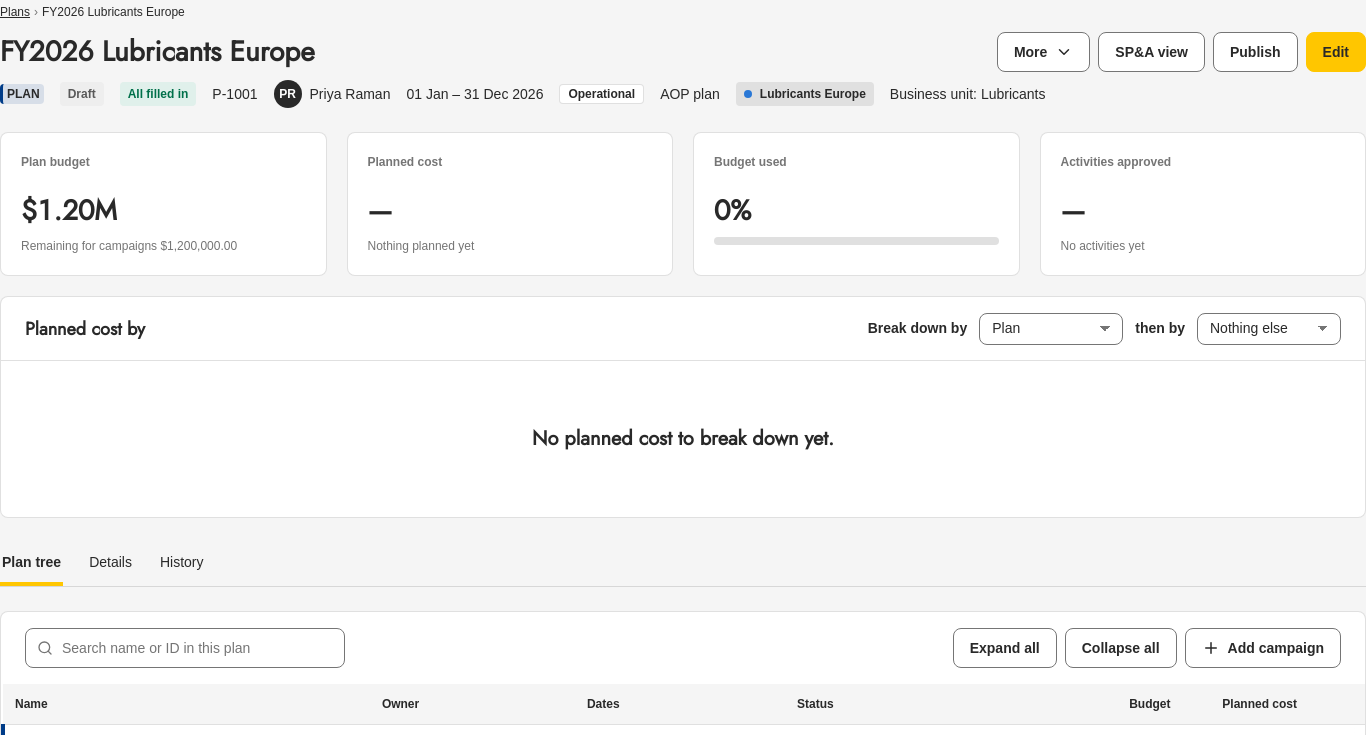
Test: PlanPage actions and history (US5, US6, FR-026 – FR-031) › goes to the Plans list after a delete, with Undo (US6#4, FR-030)
The image size is (1366, 735).
Click the button "More" at (1044, 52), box [997,32,1090,72]
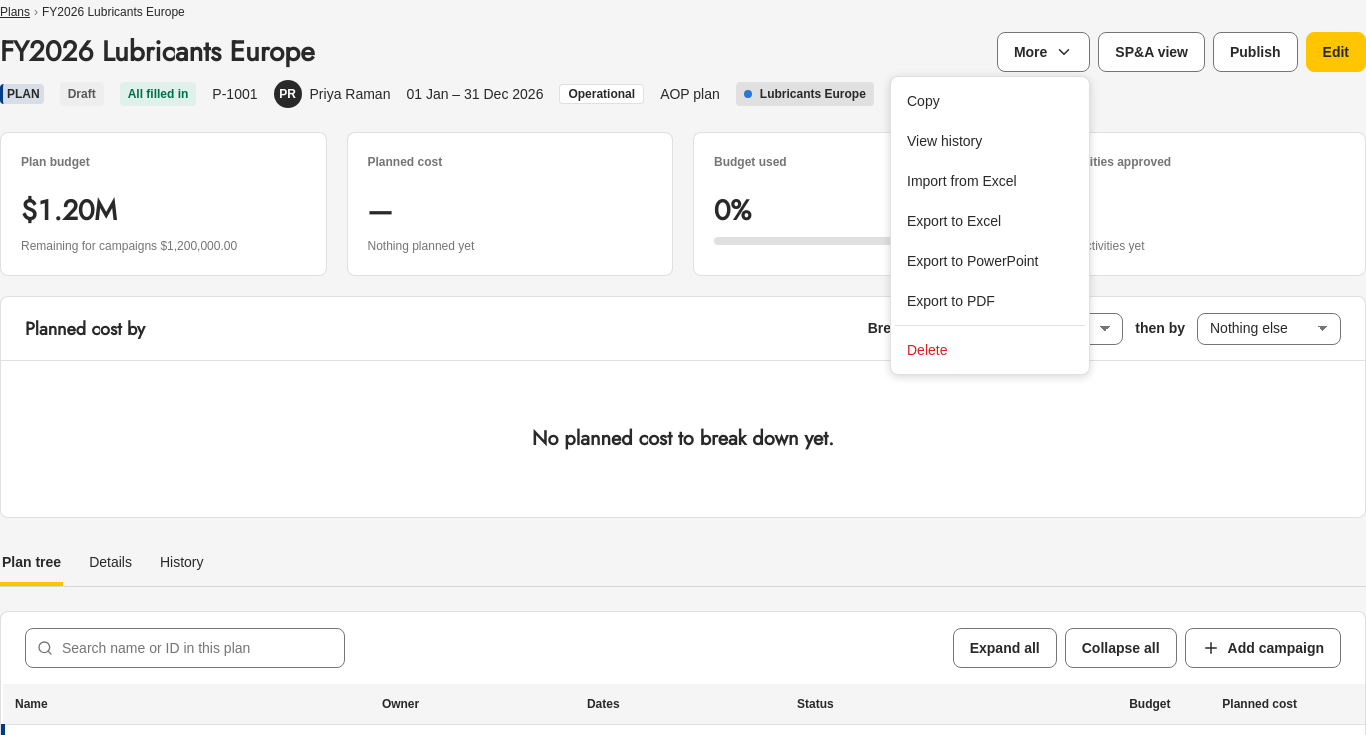
Click the menu item "Delete" at (927, 350), box [907,342,948,358]
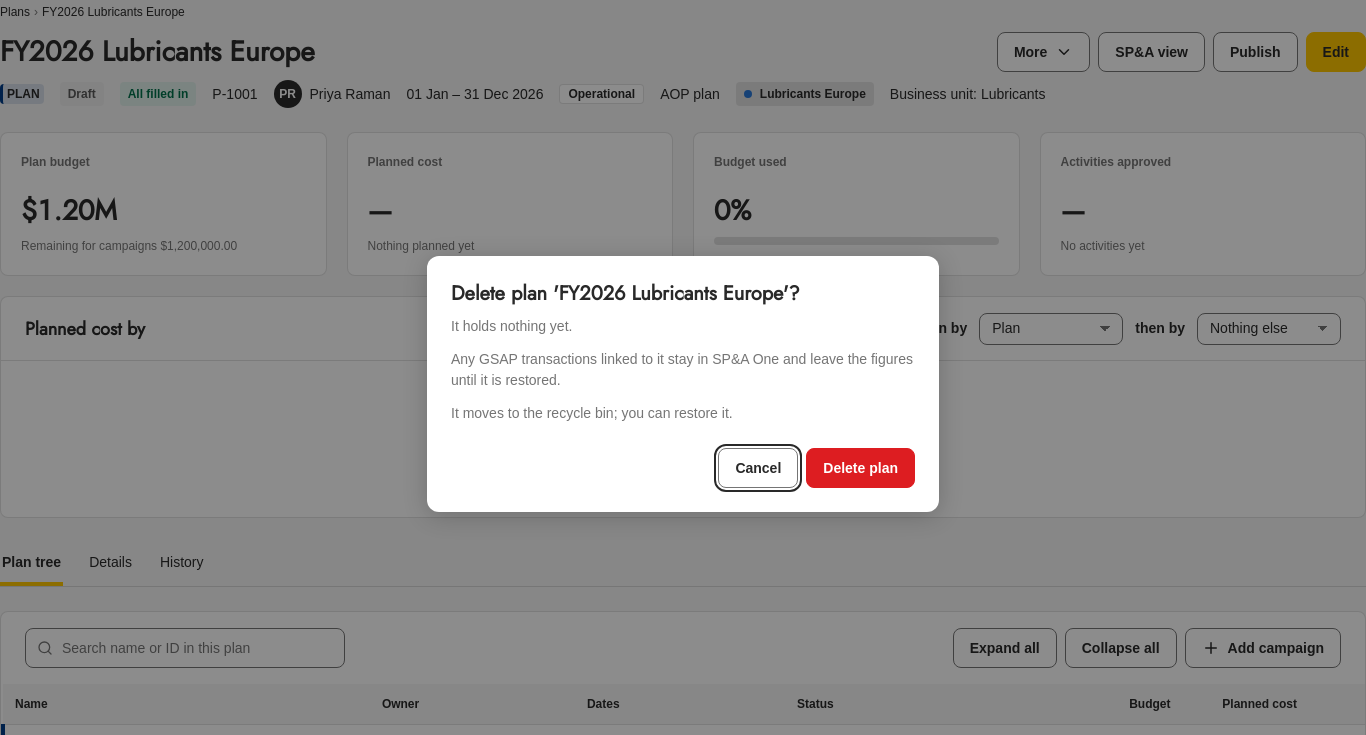
Click the button "Delete plan" at (861, 468), box [806,448,915,488]
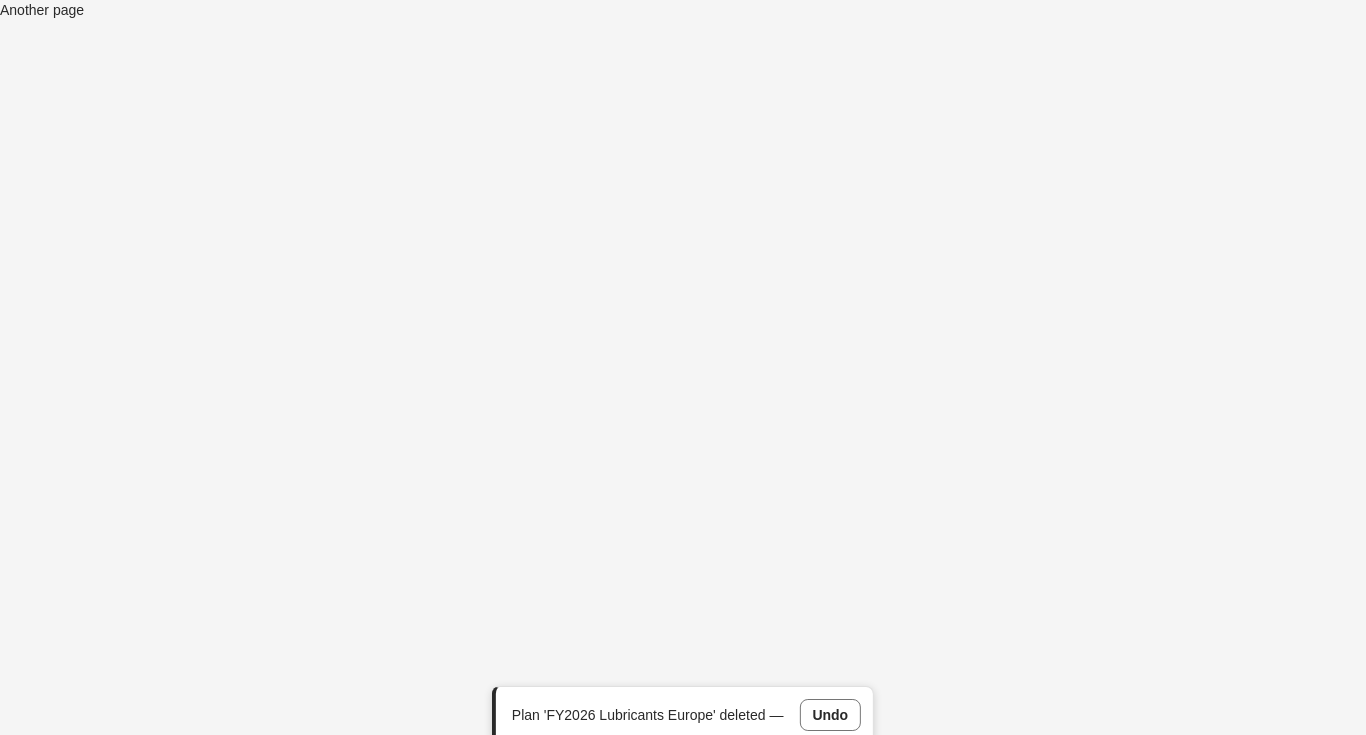
Result: the text "Plan 'FY2026 Lubricants Europe' deleted" is shown at [512,706,769,722]
